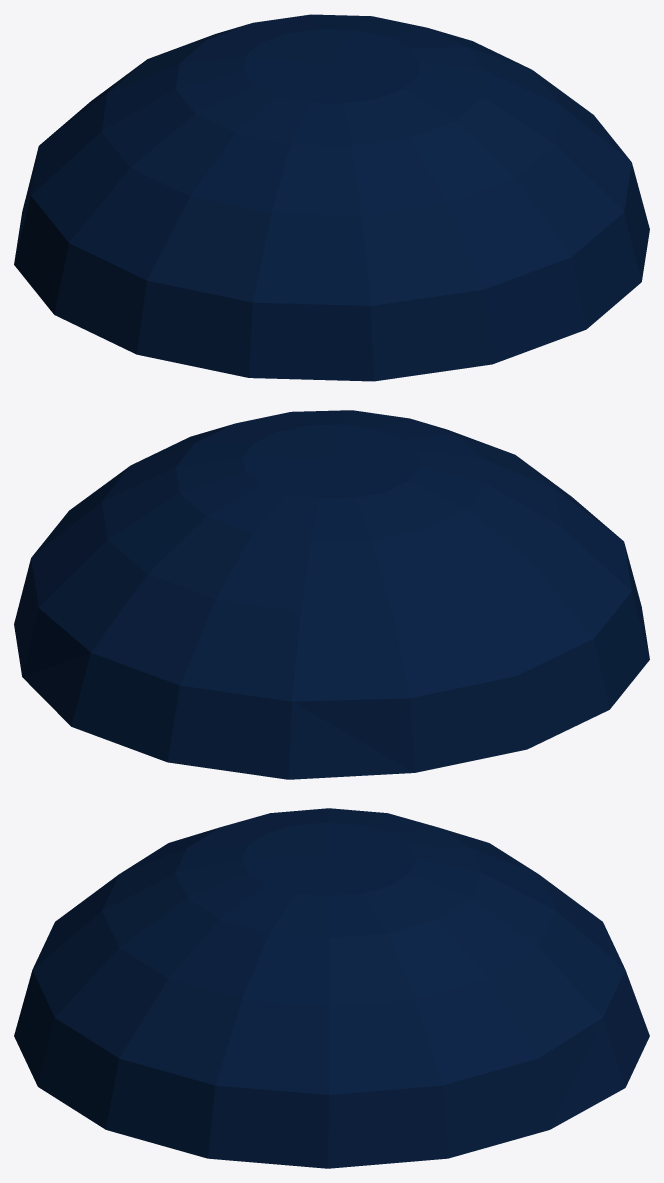
The model's file is ballroom.fbx.
The picture shows the model from 3 angles, top to bottom: view 1: azimuth 30°, elevation 25°; view 2: azimuth 150°, elevation 25°; view 3: azimuth 270°, elevation 25°; orthographic projection. The views are drawn at different scales.
Visible parts, largest first — view 1: main:rdmobj010; view 2: main:rdmobj010; view 3: main:rdmobj010.
Part boxes in pixels (x1=…): main:rdmobj010: x1=14, y1=14, x2=649, y2=381; main:rdmobj010: x1=14, y1=410, x2=649, y2=779; main:rdmobj010: x1=14, y1=808, x2=649, y2=1168.
Size of the model in its own units: 199218 by 62470 by 201785.
Materials: 38 (38 with a texture image).
